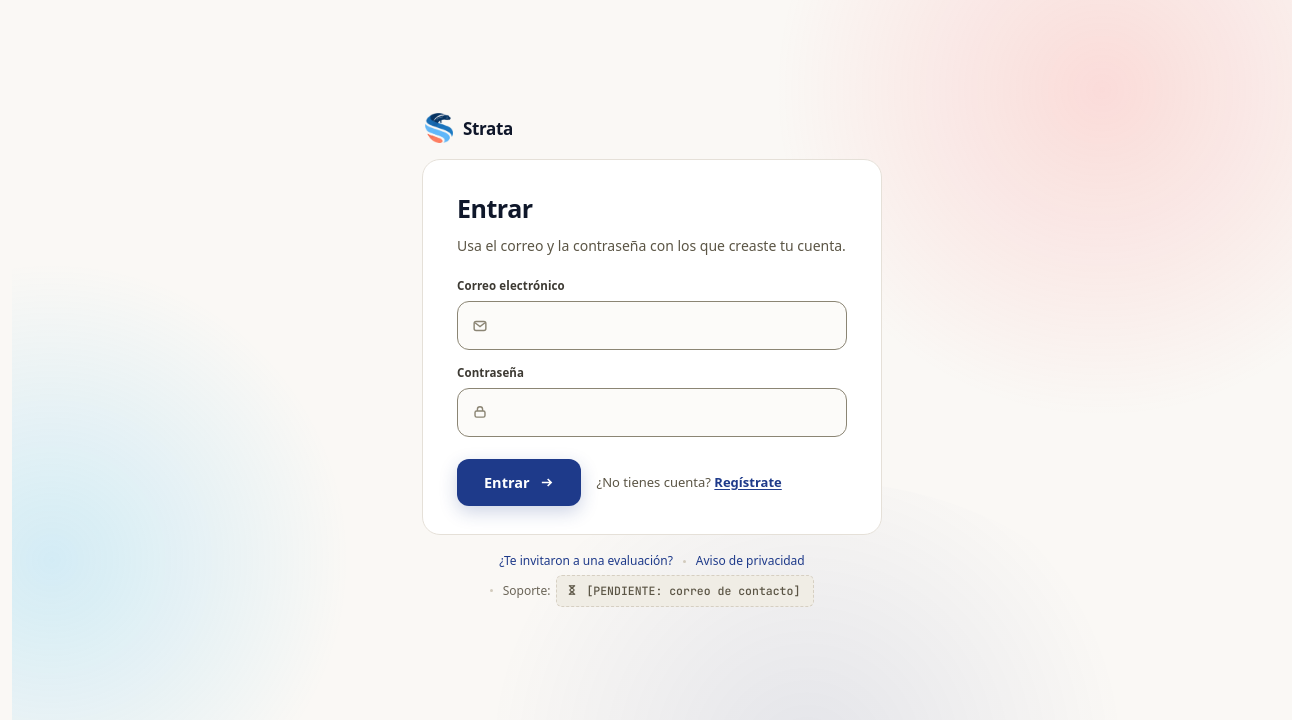
Test case: Login › con credenciales incorrectas (422) se queda en /login con el error de siempre, sin «Reintentar»
Type "ana@empresa.mx" into the field labelled "Correo electrónico" at [667, 326], box [488,302,846,349]
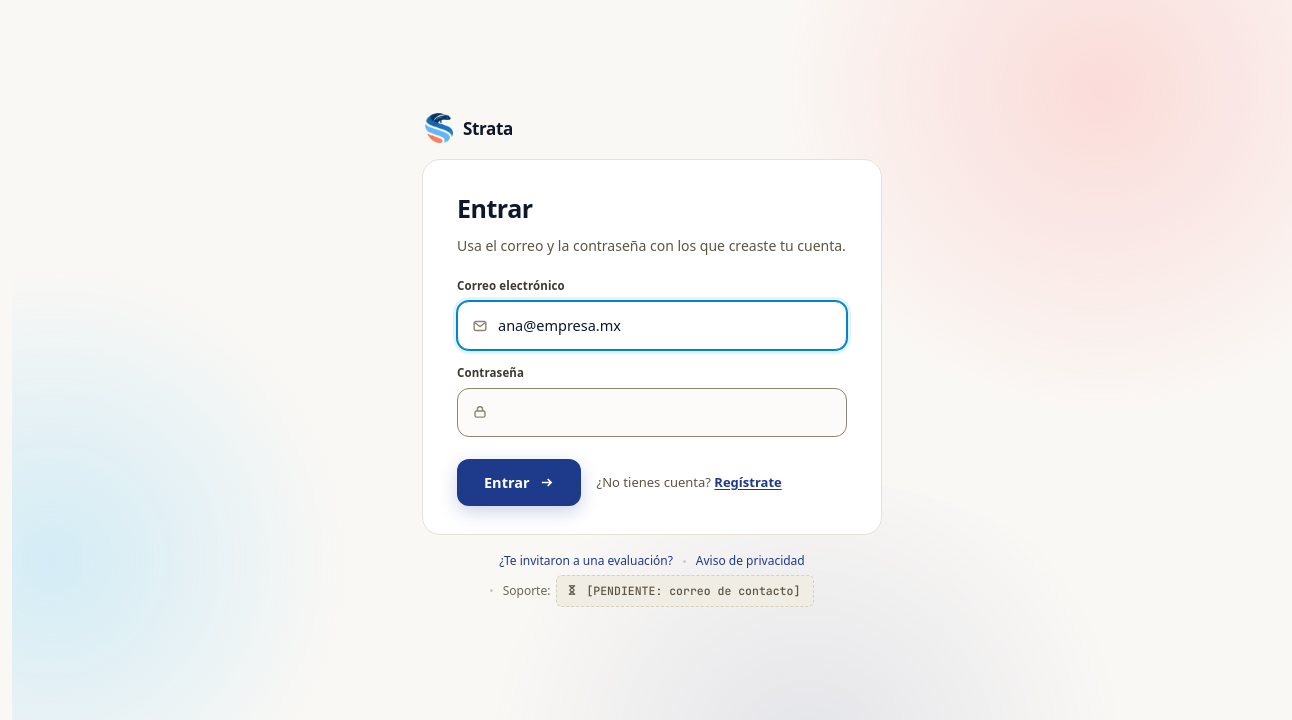
Type "secreta123" into the password field labelled "Contraseña" at [667, 412], box [488,389,846,436]
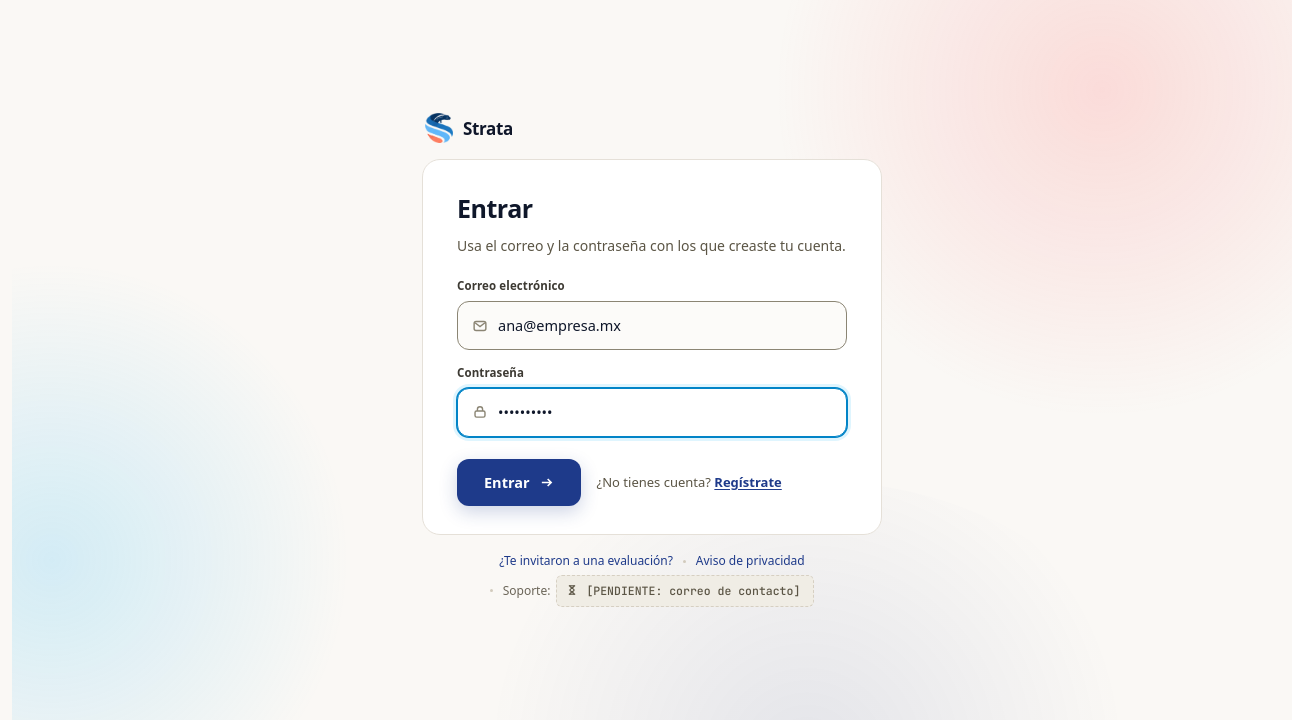
Click the button "Entrar" at [519, 483], box [457,459,581,506]
(page scrolled)
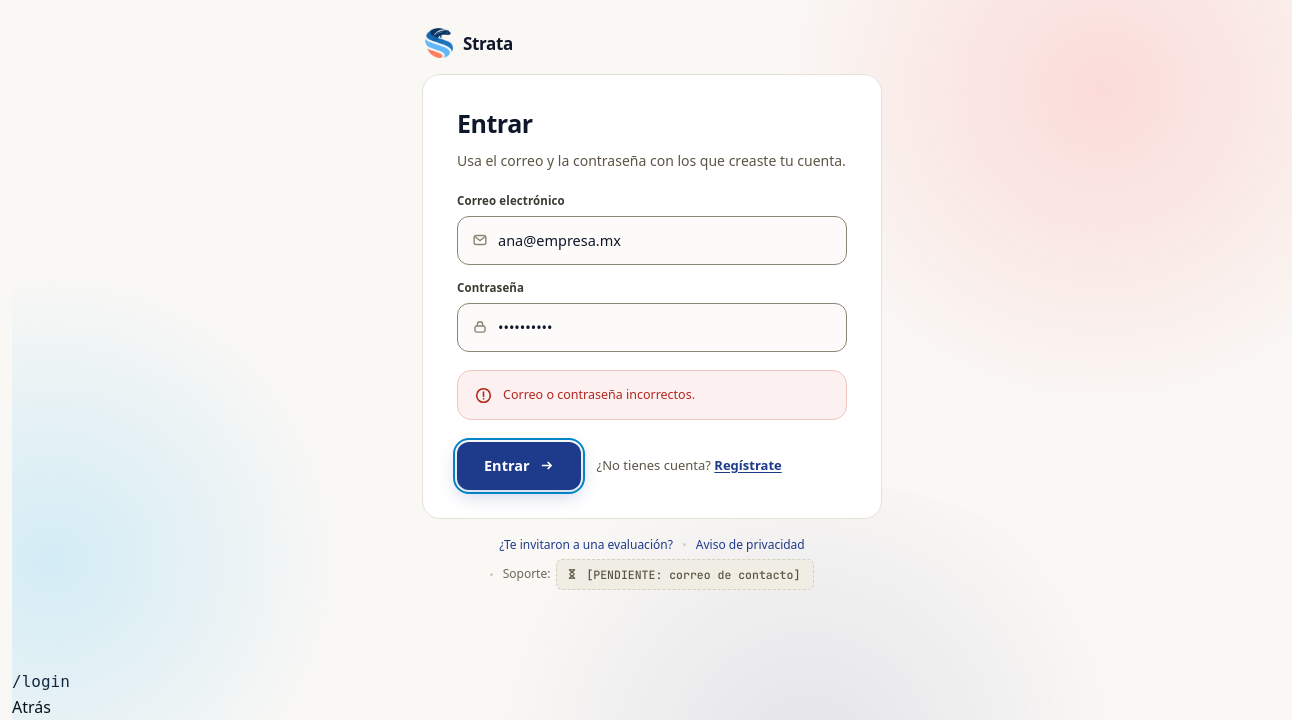
Expected: the text with test id "ubicacion" reads "/login", [12,672,70,691]
Expected: the message reads "Correo o contraseña incorrectos.", [503,386,695,402]
